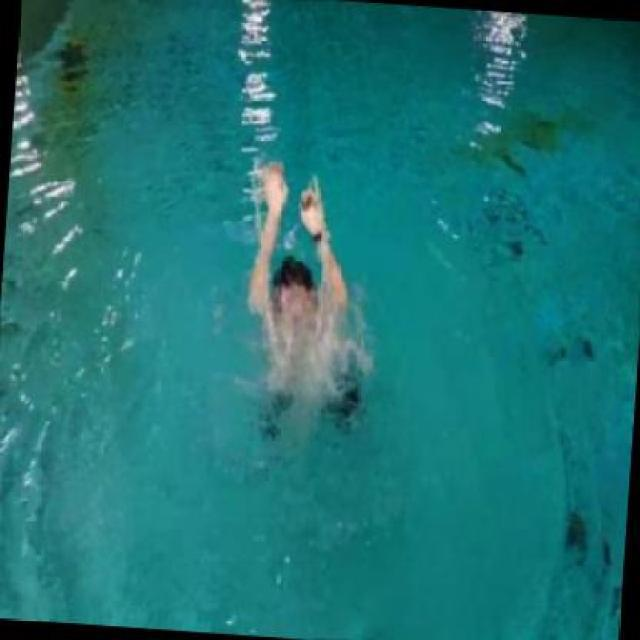Drowning: (230, 144, 381, 428)
